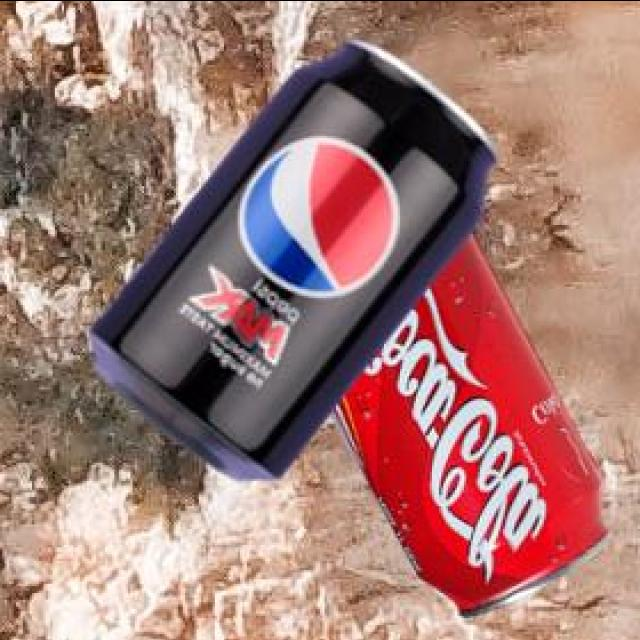logam: (88, 35, 493, 477), (326, 230, 607, 611)
